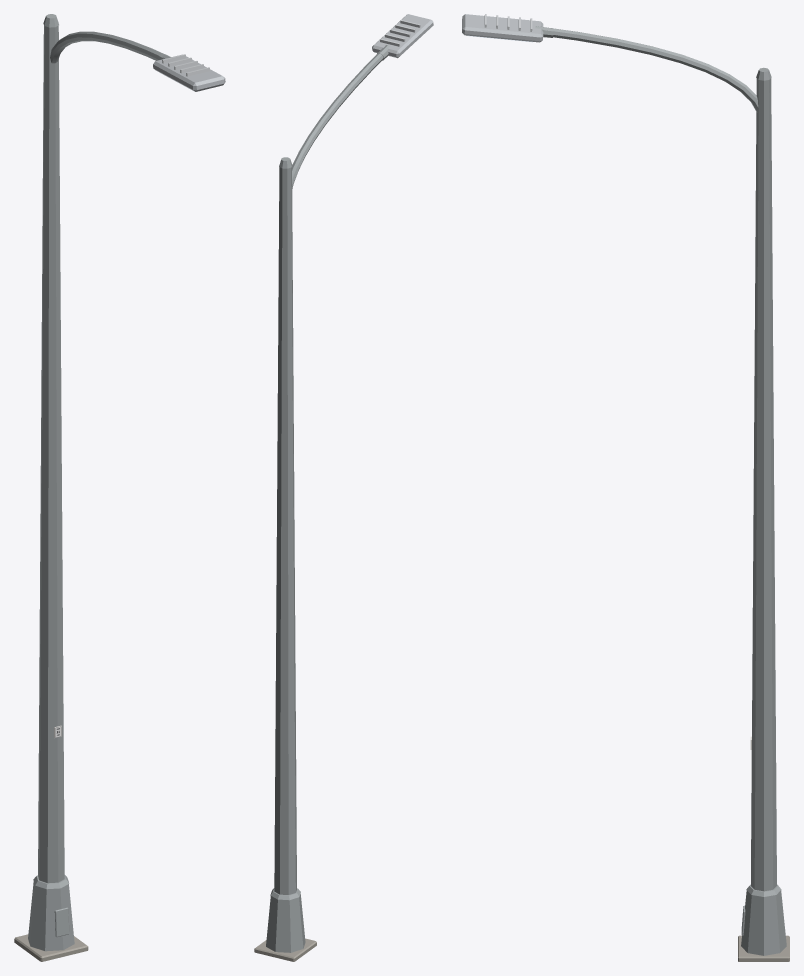
The model's file is SC_Str_Streetlight_Road.gltf.
The picture shows the model from 3 angles, left to right: view 1: azimuth 30°, elevation 25°; view 2: azimuth 150°, elevation 25°; view 3: azimuth 270°, elevation 25°; orthographic projection. The views are drawn at different scales.
Parts seen in each view (by area): view 1: SC_Str_Streetlight_Road; view 2: SC_Str_Streetlight_Road; view 3: SC_Str_Streetlight_Road.
Part boxes in pixels (x1=…): SC_Str_Streetlight_Road: x1=14, y1=14, x2=225, y2=961; SC_Str_Streetlight_Road: x1=254, y1=14, x2=433, y2=961; SC_Str_Streetlight_Road: x1=462, y1=14, x2=789, y2=961.
Bounding box in the file's own units: 0.5 × 9.87 × 3.15.
3 materials, 3 textured.
